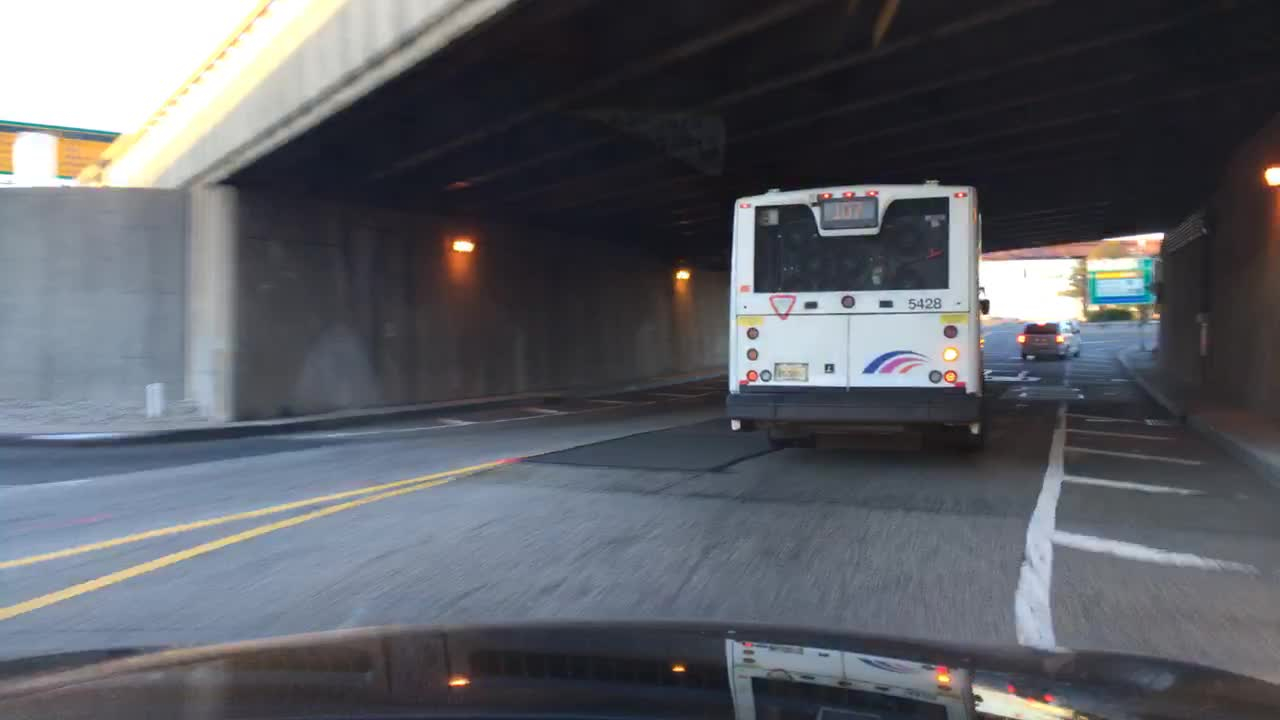bus: (722, 177, 990, 454)
car: (1016, 317, 1081, 361)
traffic sign: (0, 120, 120, 177), (1083, 255, 1152, 300)
